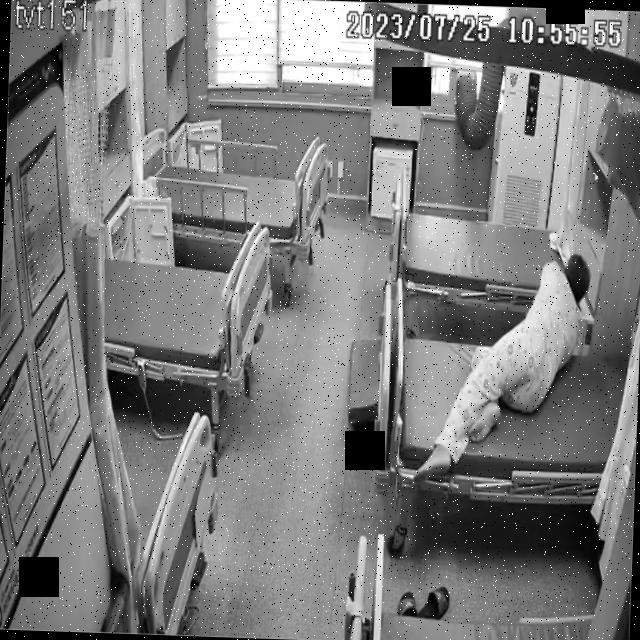bed: (390, 329, 630, 512), (100, 215, 278, 398), (138, 128, 327, 255), (389, 186, 574, 313)
danger: (410, 240, 594, 496)
patient: (410, 241, 592, 494)
